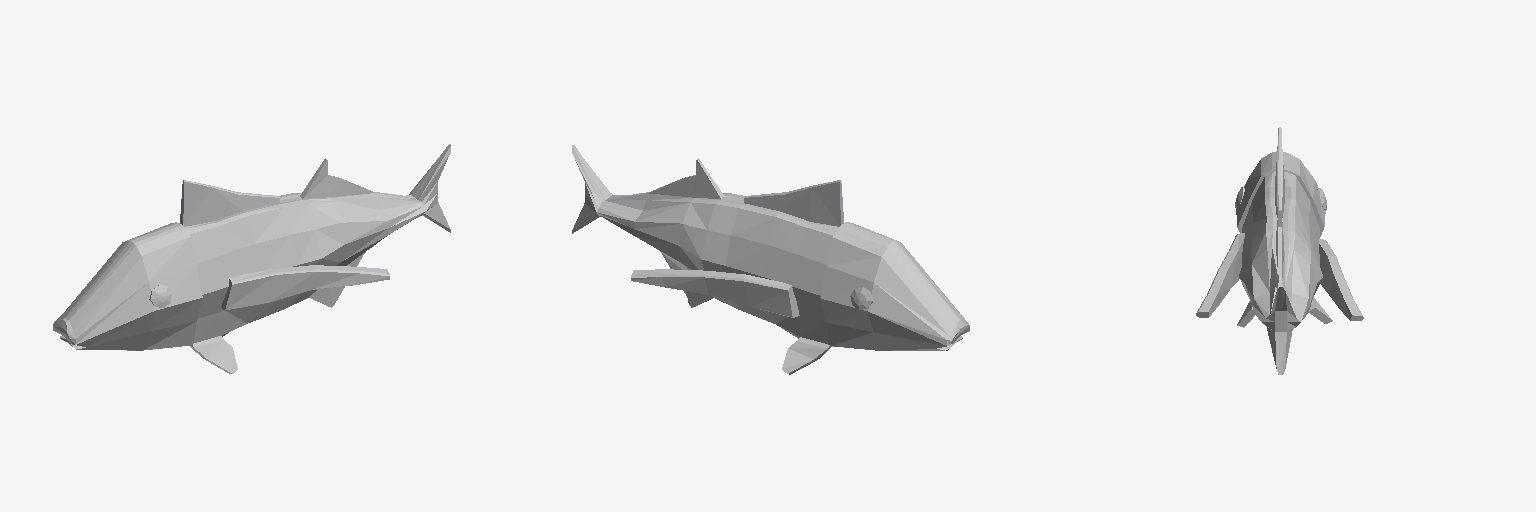
Rendered from Fish_U1V1_2.obj.
The picture shows the model from 3 angles: view 1: azimuth 30°, elevation 25°; view 2: azimuth 150°, elevation 25°; view 3: azimuth 270°, elevation 25°; orthographic projection.
Parts seen in each view (by area): view 1: polySurface6; view 2: polySurface6; view 3: polySurface6.
Boxes of the visible parts, x1=… form: polySurface6: x1=53, y1=144, x2=450, y2=373; polySurface6: x1=572, y1=145, x2=969, y2=374; polySurface6: x1=1196, y1=127, x2=1363, y2=374.
Bounding box in the file's own units: 12.27 × 5.64 × 4.59.